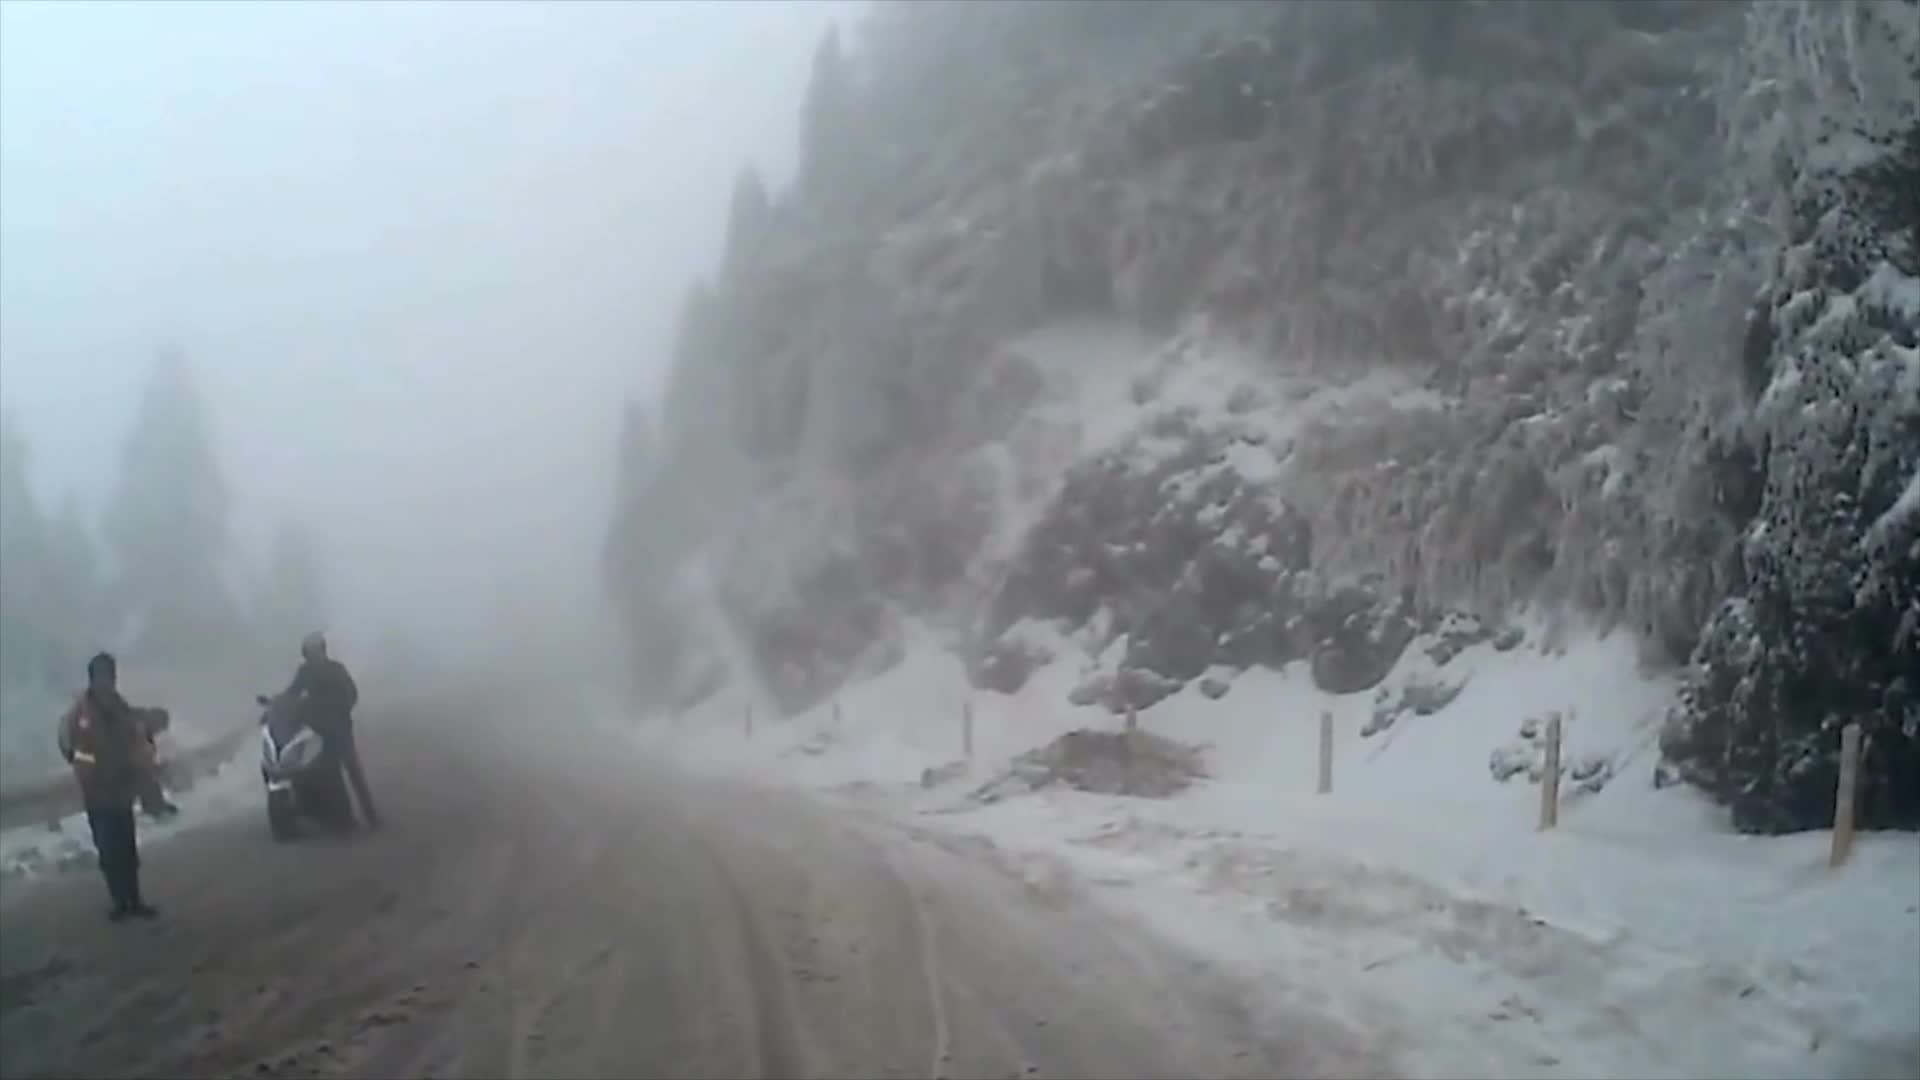pedestrian: (61, 655, 162, 925), (271, 626, 393, 840), (107, 706, 180, 819)
